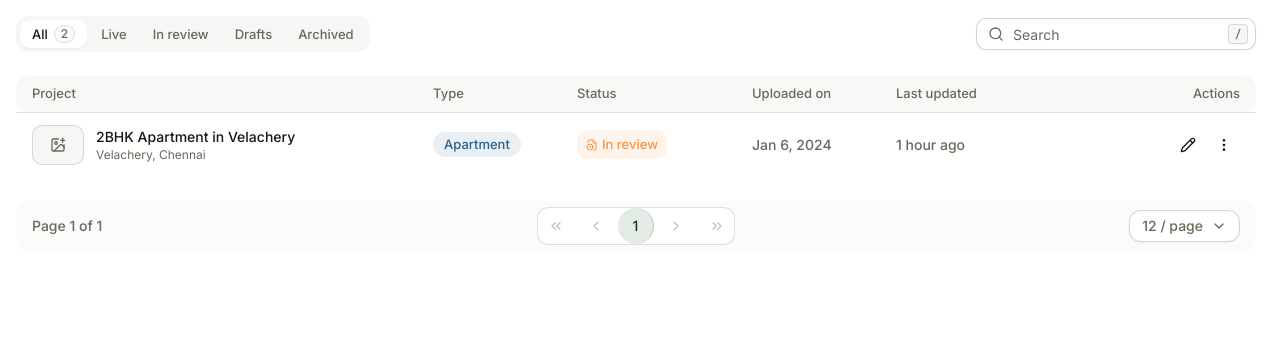
Test: DesignerProjectsList › explains in_review on keyboard focus and dismisses on Escape
This screenshot has width=1273, height=352.
Focus the button "In review" at coordinates (622, 144), box [577, 130, 667, 159]
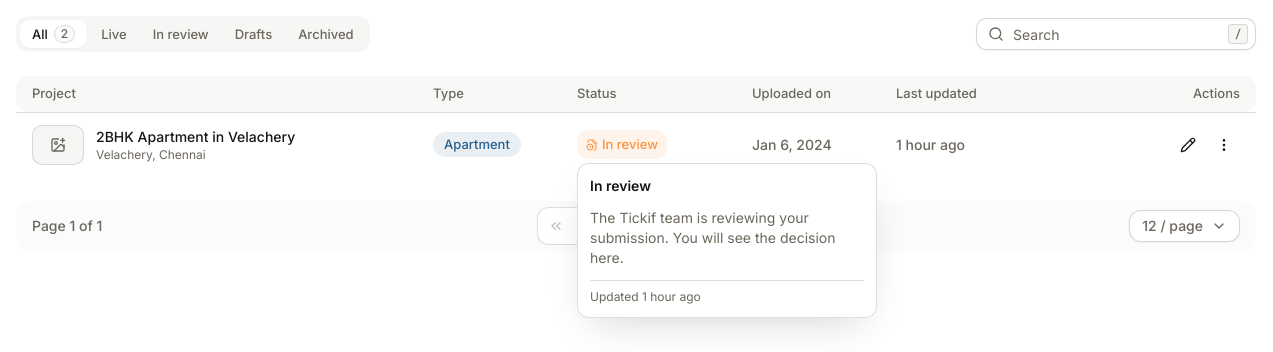
expect the tooltip shows "reviewing your submission": met, box [590, 209, 836, 266]
Press Escape
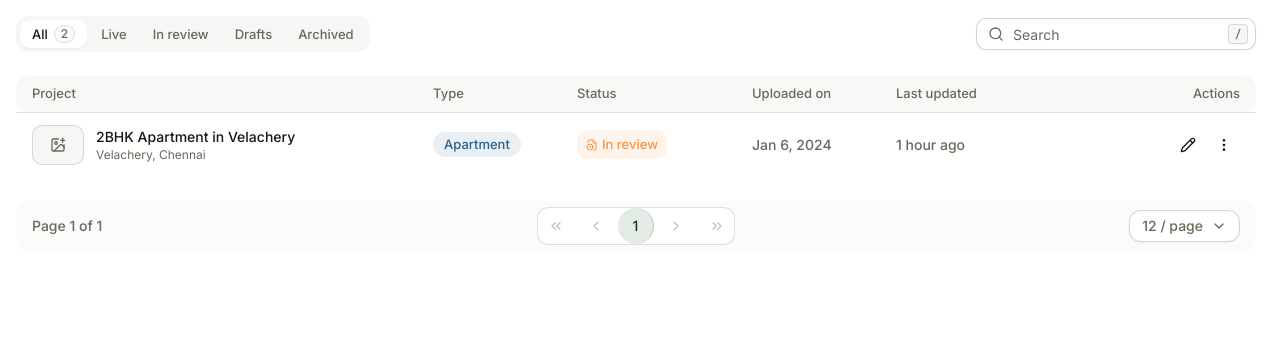
expect the tooltip is gone: met
